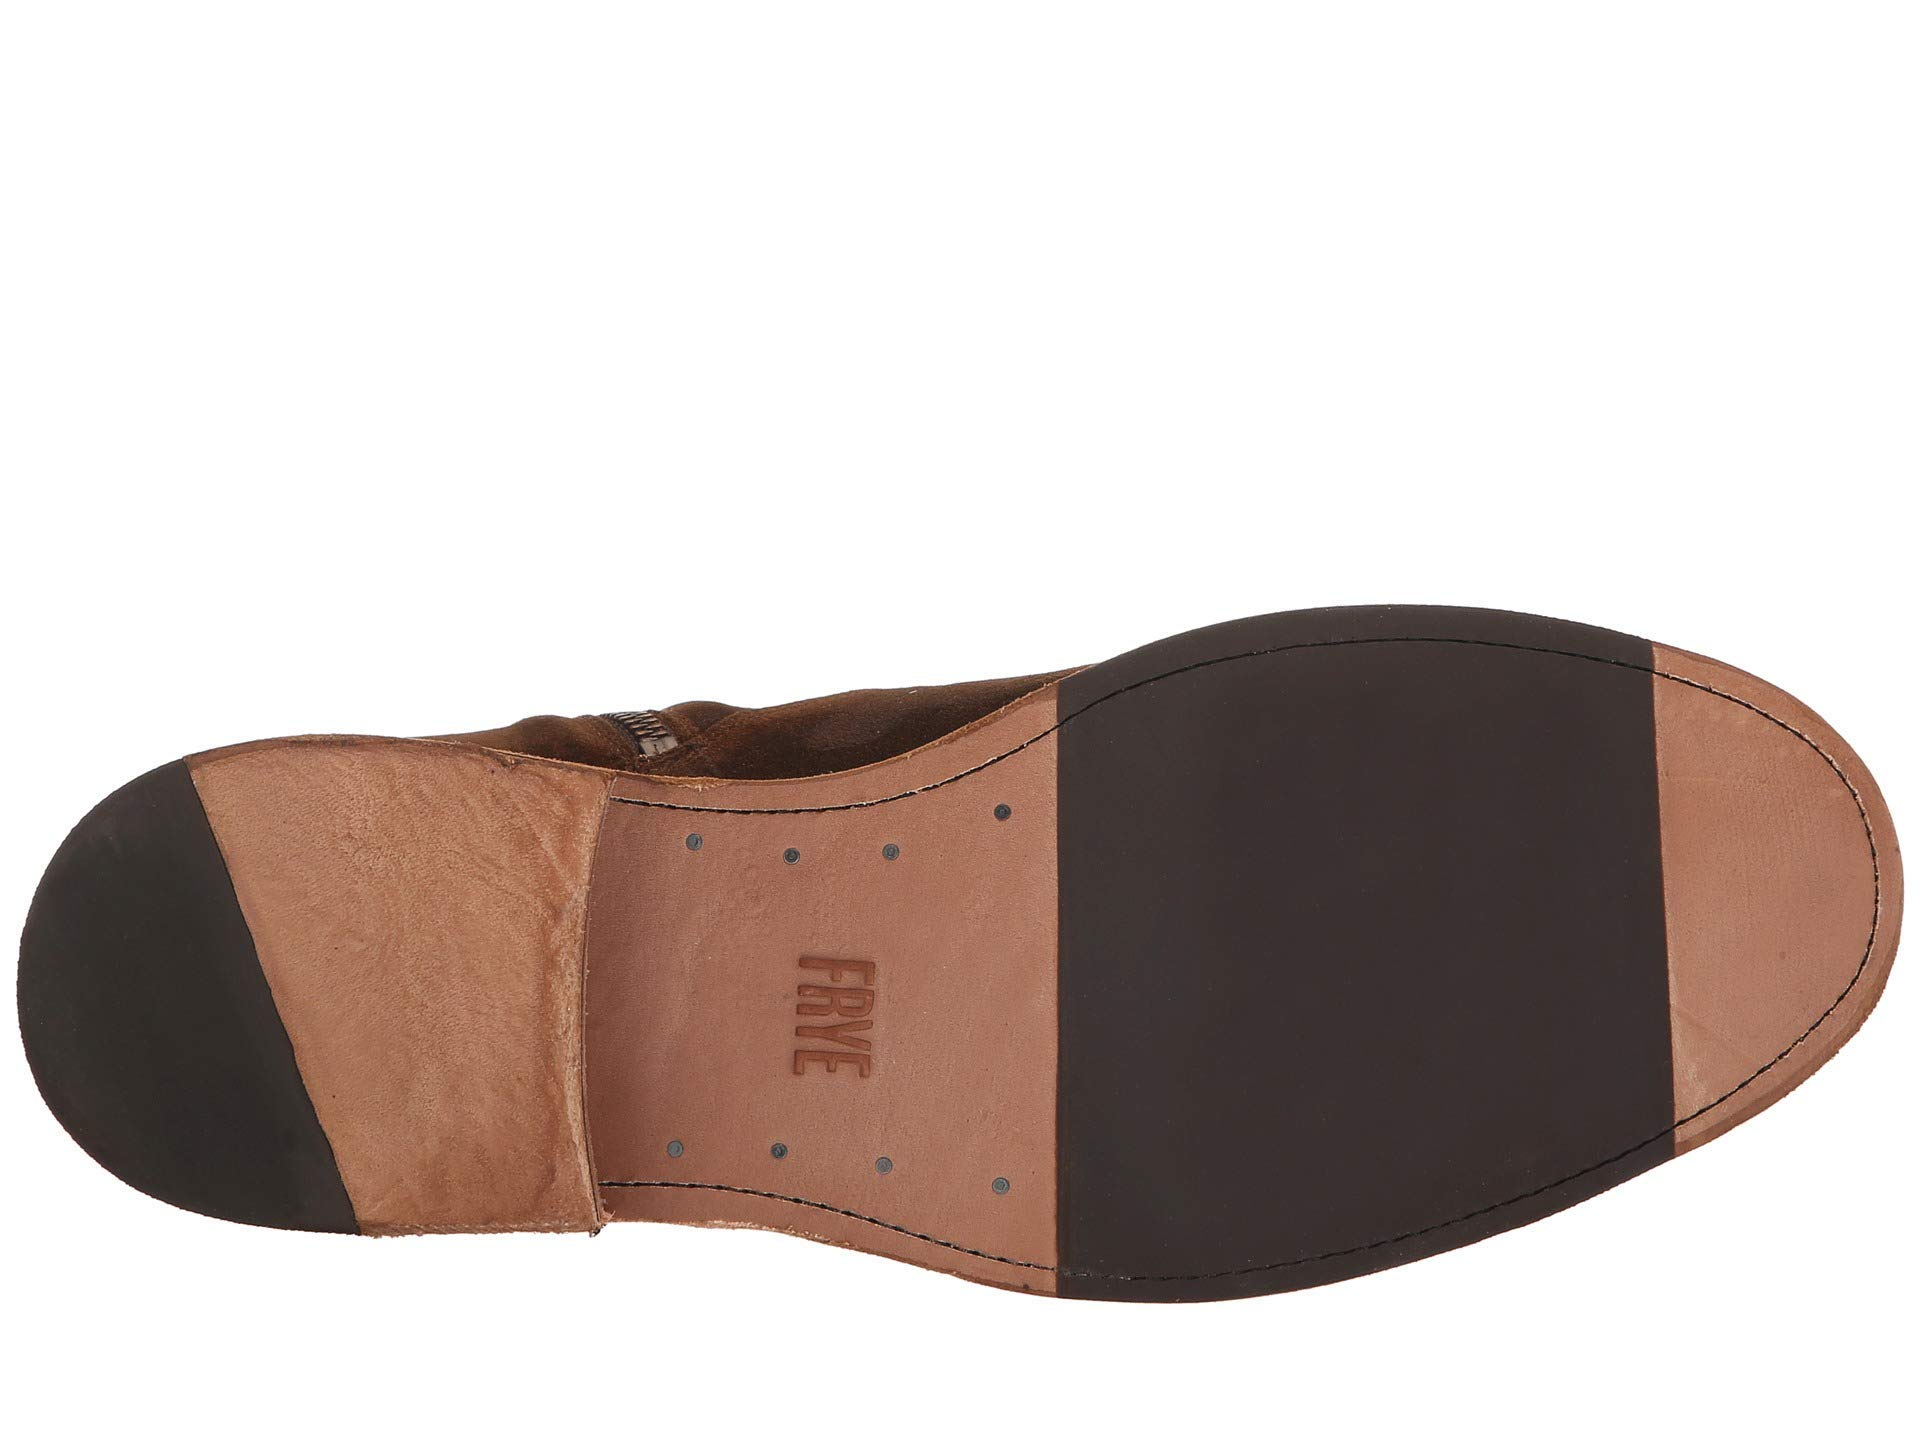text: (785, 938, 930, 1118)
